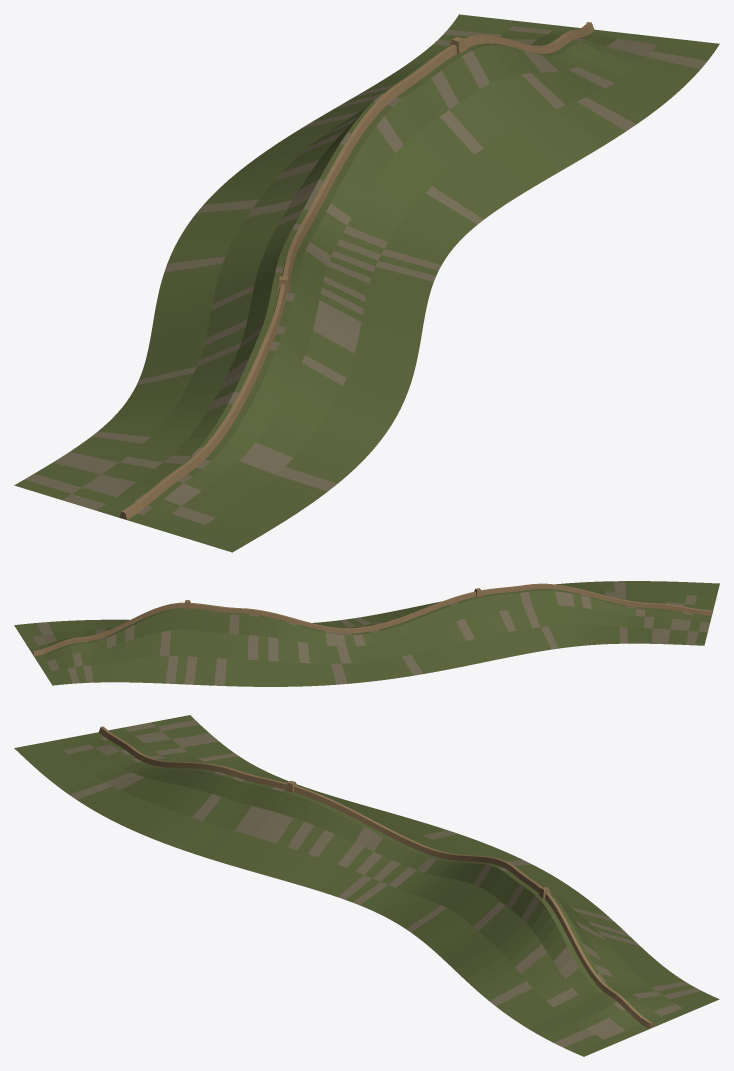
The model's file is great-wall-b30.glb.
3 renders of one model, top to bottom at view 1: azimuth 30°, elevation 25°; view 2: azimuth 150°, elevation 25°; view 3: azimuth 270°, elevation 25°, orthographic. The views are drawn at different scales.
Parts seen in each view (by area): view 1: great-wall-b30; view 2: great-wall-b30; view 3: great-wall-b30.
Part boxes in pixels (left/top/right/bottom): great-wall-b30: left=14, top=14, right=719, bottom=552; great-wall-b30: left=14, top=581, right=719, bottom=686; great-wall-b30: left=14, top=715, right=719, bottom=1056.
Bounding box in the file's own units: 672 × 62.01 × 586.
